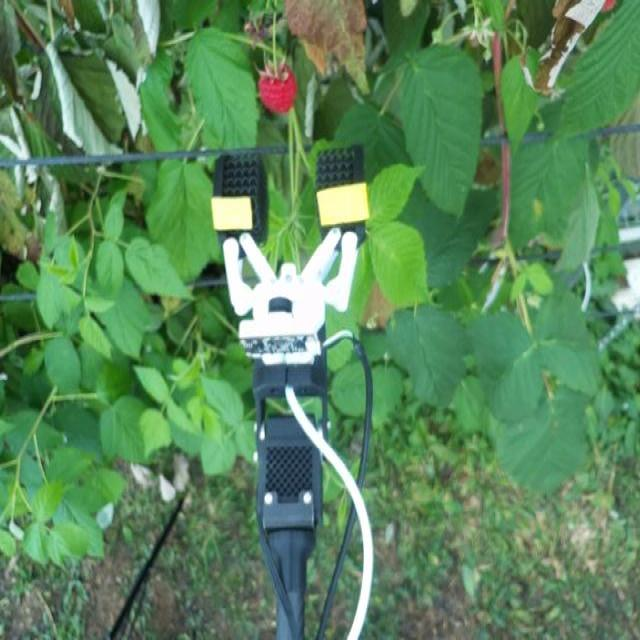Riped berries: (255, 59, 298, 116)
